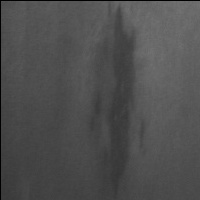inclusion: (93, 3, 147, 200)
